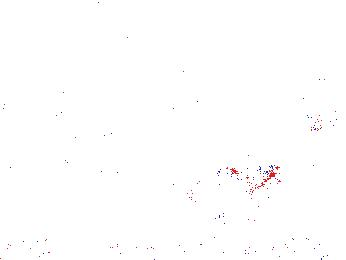flame jellyfish: (211, 163, 281, 211), (146, 167, 207, 216), (284, 61, 325, 133)
